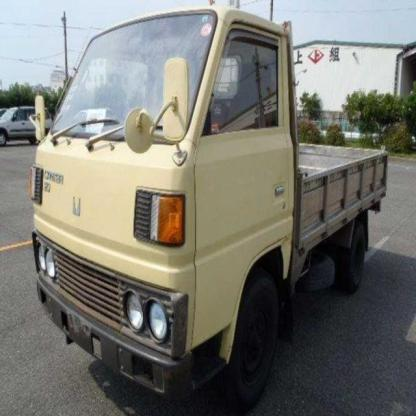truck: (29, 4, 393, 402)
